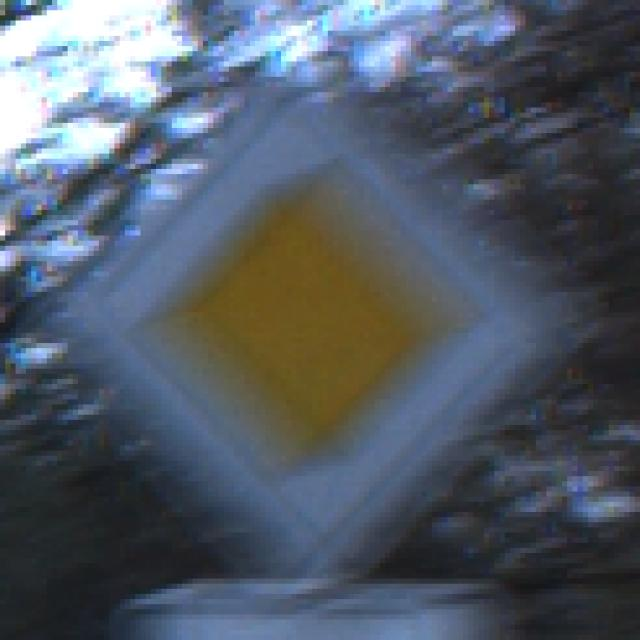Main Road: (58, 57, 589, 590)
